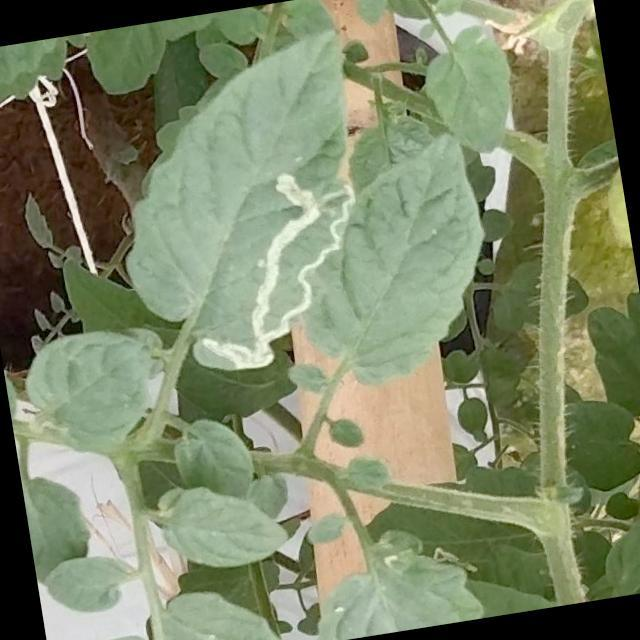Tomato healthy leaf: (279, 123, 506, 398), (11, 318, 164, 466)
Tomato target spot leaf: (92, 23, 396, 390)
